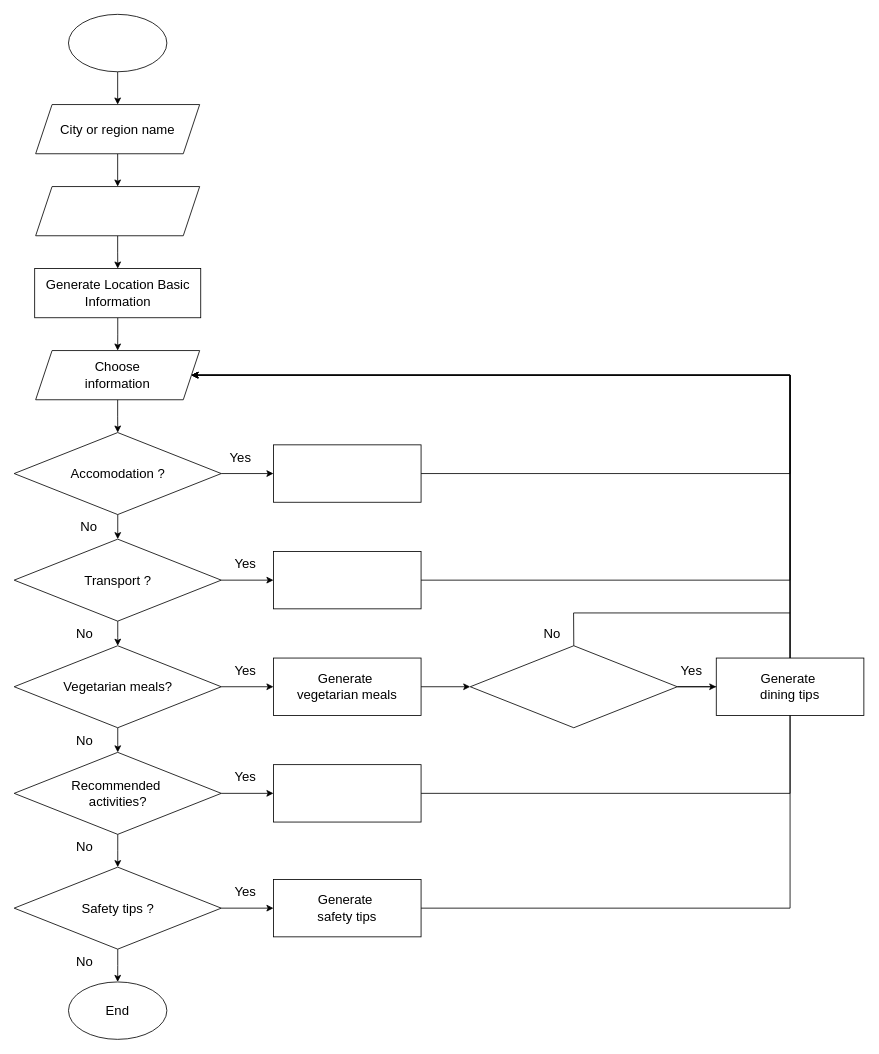
Image size: 879x1054. Some labels were removed from this diagram. Each missing label, with the centre of its shape:
Country Name: the point at 117,211
Dining tips ?: the point at 573,686
Generate accomodation info: the point at 347,473
Generate recommended activities: the point at 347,793
Generate transport info: the point at 347,580
Start: the point at 117,43
